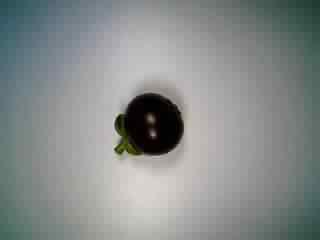mangosteen: (106, 86, 186, 164)
